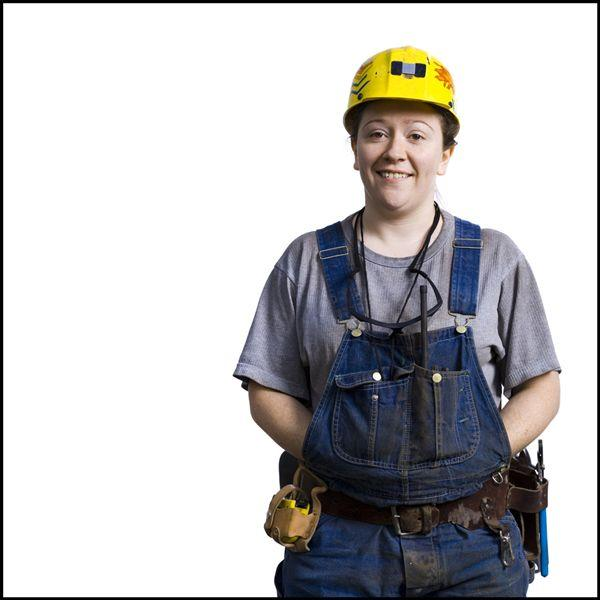helmet: (343, 47, 463, 132)
